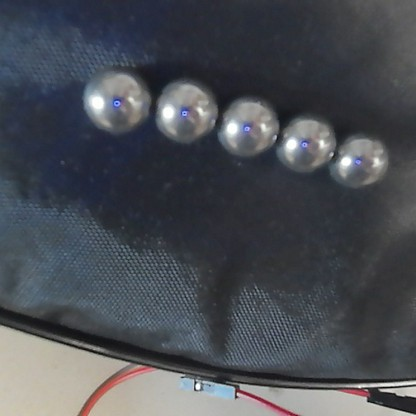ironball: (84, 68, 147, 132), (156, 79, 214, 143), (218, 96, 276, 153), (278, 115, 335, 171), (332, 135, 385, 187)
